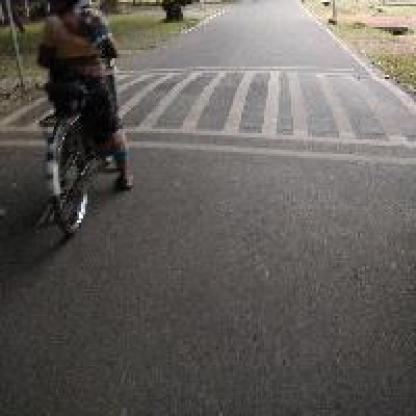Speed Bump: (131, 58, 414, 173)
